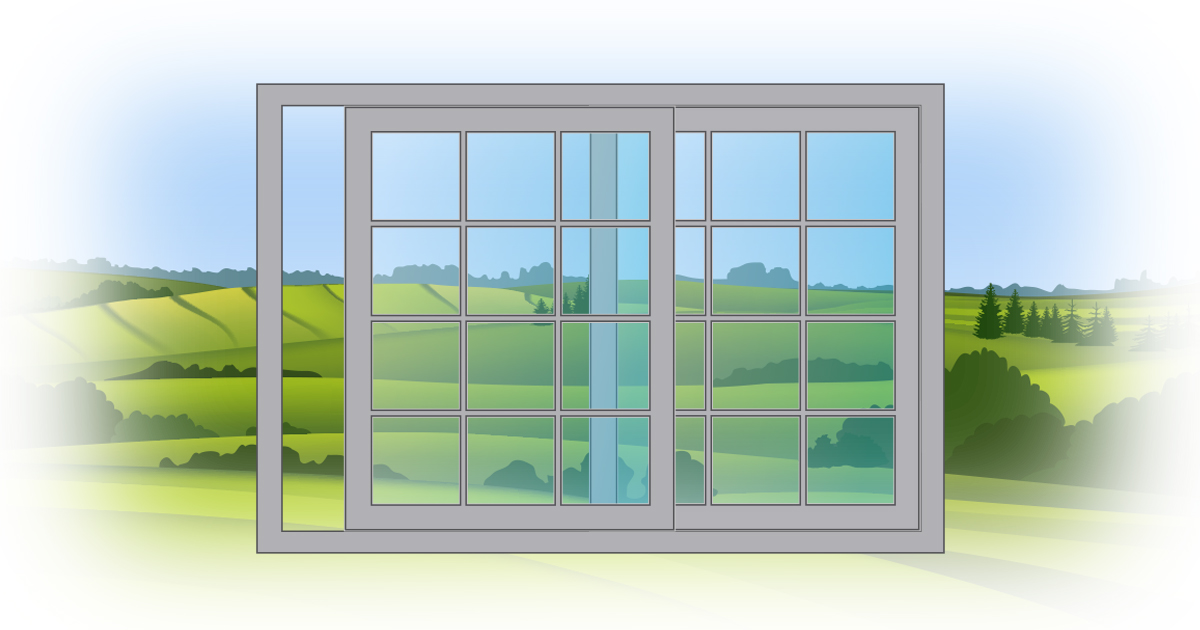Window: (255, 82, 945, 553)
